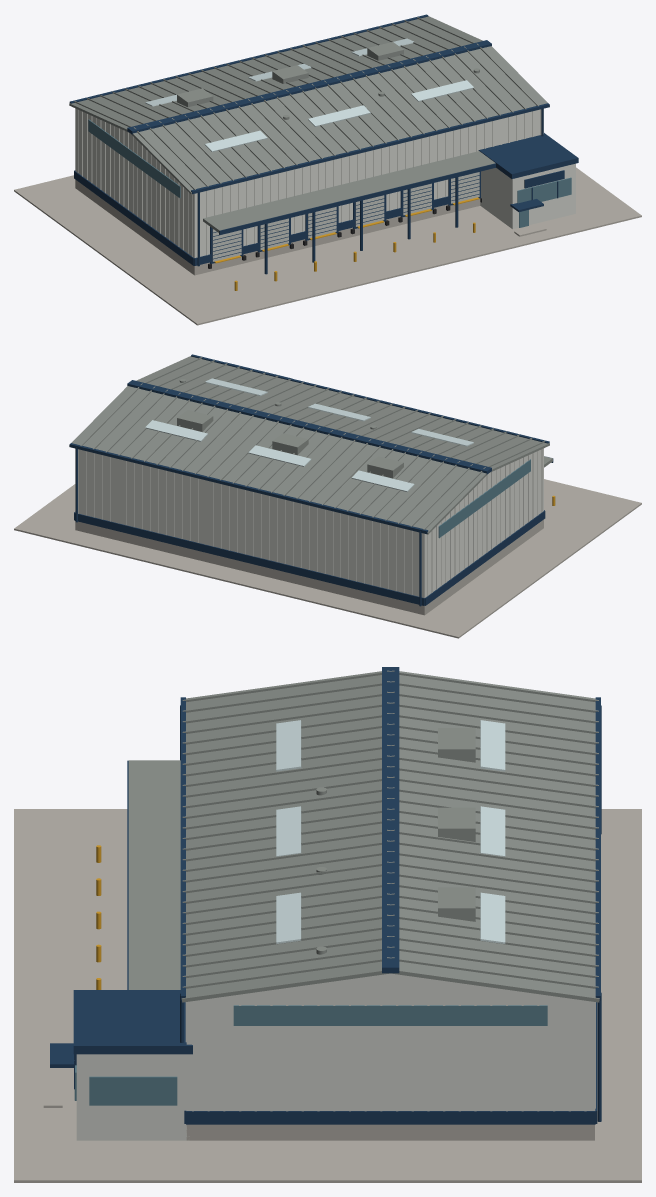
The model's file is warehouse.glb.
The picture shows the model from 3 angles, top to bottom: view 1: azimuth 30°, elevation 25°; view 2: azimuth 150°, elevation 25°; view 3: azimuth 270°, elevation 25°; orthographic projection. The views are drawn at different scales.
Parts seen in each view (by area): view 1: roof_panel (×2), apron_slab, wall_front, gable_west, canopy_deck, roller_door (×6), dock_plinth, office_walls, gutter (×2), ridge_cap, office_parapet, base_band (×2) (+5 smaller); view 2: roof_panel (×2), wall_back, apron_slab, gable_west, dock_plinth, base_band (×2), gutter (×2), ridge_cap, skylight (×3), hvac_unit (×3), clerestory; view 3: roof_panel (×2), apron_slab, gable_east, canopy_deck, skylight (×6), office_walls, office_parapet, dock_plinth, clerestory, base_band, ridge_cap, hvac_unit (×3) (+2 smaller).
Part boxes in pixels (x1=…): roof_panel (×2): x1=69, y1=16, x2=549, y2=194; apron_slab: x1=14, y1=167, x2=641, y2=325; wall_front: x1=193, y1=109, x2=543, y2=257; gable_west: x1=75, y1=109, x2=196, y2=257; canopy_deck: x1=203, y1=151, x2=495, y2=232; roller_door (×6): x1=212, y1=172, x2=479, y2=261; dock_plinth: x1=75, y1=179, x2=480, y2=275; office_walls: x1=480, y1=163, x2=575, y2=229; gutter (×2): x1=69, y1=14, x2=549, y2=194; ridge_cap: x1=127, y1=40, x2=491, y2=134; office_parapet: x1=478, y1=133, x2=578, y2=178; base_band (×2): x1=74, y1=171, x2=480, y2=265; roof_panel (×2): x1=69, y1=356, x2=549, y2=534; wall_back: x1=75, y1=449, x2=425, y2=597; apron_slab: x1=14, y1=479, x2=641, y2=638; gable_west: x1=422, y1=448, x2=543, y2=597; dock_plinth: x1=75, y1=519, x2=543, y2=615; base_band (×2): x1=74, y1=510, x2=545, y2=605; gutter (×2): x1=69, y1=354, x2=549, y2=533; ridge_cap: x1=127, y1=380, x2=491, y2=474; skylight (×3): x1=145, y1=420, x2=414, y2=491; hvac_unit (×3): x1=177, y1=410, x2=403, y2=478; clerestory: x1=438, y1=459, x2=530, y2=538; roof_panel (×2): x1=181, y1=671, x2=599, y2=1002; apron_slab: x1=14, y1=809, x2=641, y2=1182; gable_east: x1=186, y1=973, x2=594, y2=1110; canopy_deck: x1=128, y1=760, x2=180, y2=989; skylight (×6): x1=276, y1=720, x2=505, y2=943; office_walls: x1=76, y1=1054, x2=189, y2=1140; office_parapet: x1=73, y1=990, x2=192, y2=1054; dock_plinth: x1=186, y1=1124, x2=594, y2=1140; clerestory: x1=233, y1=1005, x2=547, y2=1025; base_band: x1=186, y1=1111, x2=595, y2=1124; ridge_cap: x1=382, y1=667, x2=399, y2=973; hvac_unit (×3): x1=438, y1=728, x2=475, y2=921.
Bounding box in the file's own units: 56 × 12.68 × 40.
